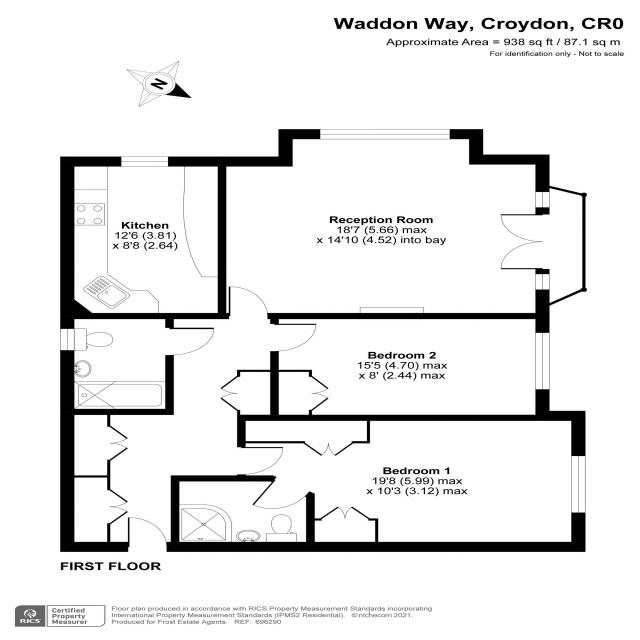DOOR: (499, 214, 551, 271), (250, 477, 311, 509), (163, 326, 216, 359), (126, 516, 170, 553), (236, 446, 284, 475), (269, 323, 317, 352), (228, 286, 269, 319)
ROOM: (217, 129, 550, 319), (236, 410, 586, 552), (270, 313, 550, 421), (60, 156, 227, 319)
WINDOW: (319, 129, 451, 140), (534, 332, 551, 391), (570, 455, 586, 514), (120, 156, 169, 167), (59, 328, 75, 351)
